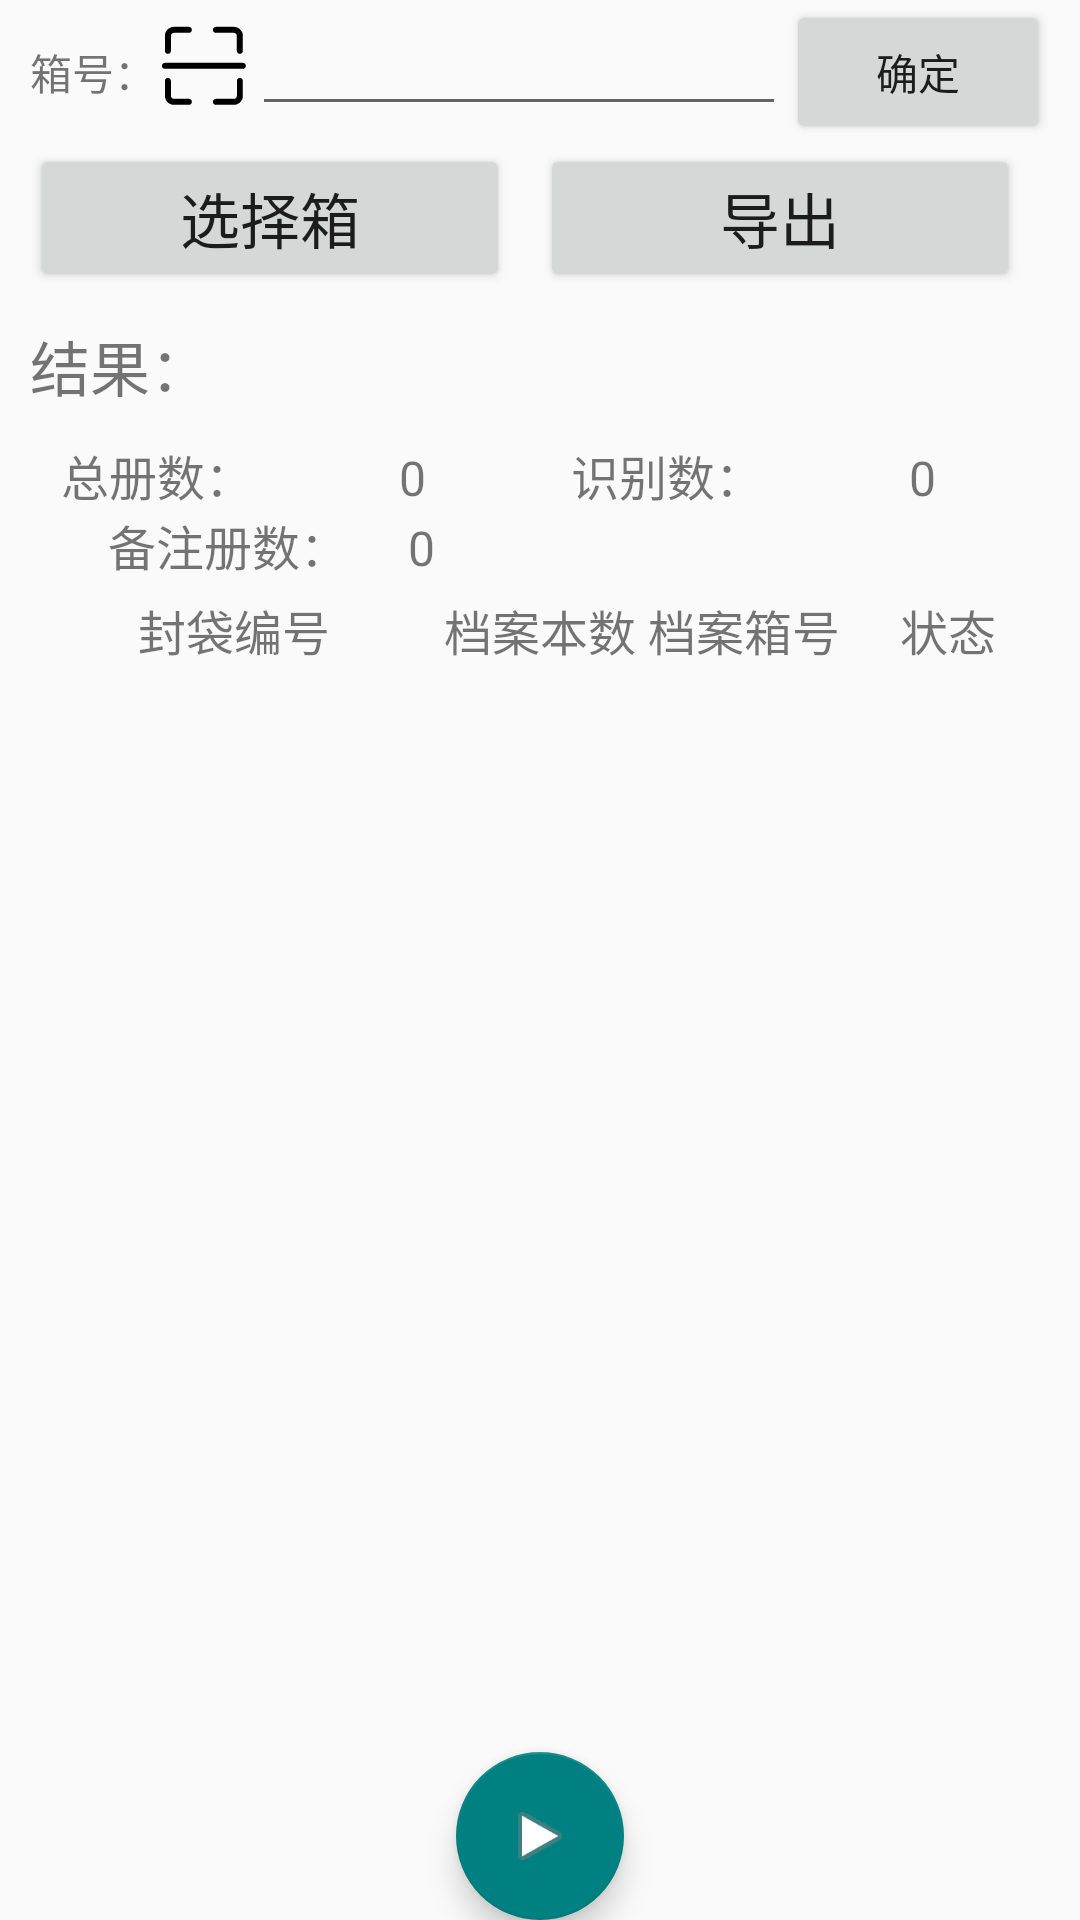

Icon click points for this 1080 × 1920 phone screenshot, format (x,y):
play: (540,1836)
scan: (204,65)
